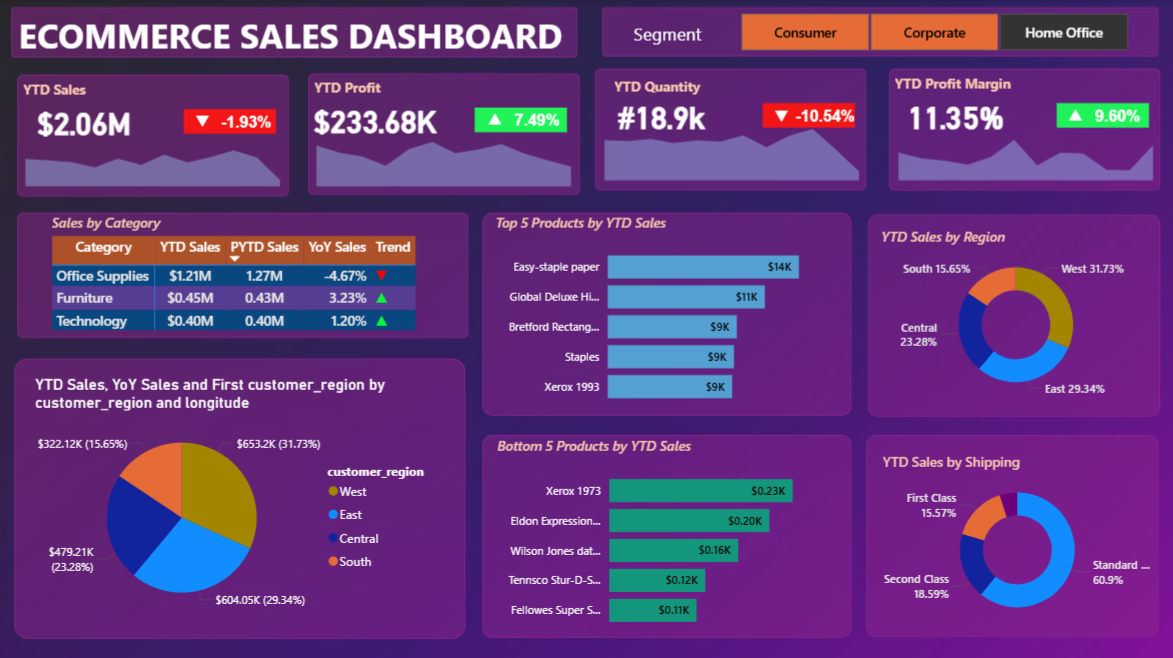

What the dashboard file says about the page in this screenshot:
{"tool":"powerbi","page":{"name":"Page 2","canvas":[1280,720],"ordinal":1},"visuals":[{"type":"shape","box":[17,7.6,614.2,54.8],"z":0},{"type":"textbox","box":[19.5,8.1,611.6,66.7],"z":1000},{"type":"shape","box":[22.4,81.5,294.8,132.3],"z":2000},{"type":"card","fields":{"Values":["ecommerce_data Power BI.YTD Sales"]},"box":[20.5,102.2,147.4,58.6],"z":3000},{"type":"areaChart","fields":{"Category":["Calendar.Month"],"Y":["Sum(ecommerce_data Power BI.sales_per_order)"]},"box":[16.7,132.5,306.1,75.6],"z":4000},{"type":"shape","box":[203.8,119.2,100.2,26.5],"z":5000},{"type":"card","fields":{"Values":["ecommerce_data Power BI.YoY Sales"]},"box":[224.6,115.5,92.6,35.9],"z":6000},{"type":"card","fields":{"Values":["ecommerce_data Power BI.Sales Icon"]},"box":[209.5,119.2,26.5,26.5],"z":7000},{"type":"textbox","box":[24.3,81.5,96.4,37.8],"z":8000},{"type":"shape","box":[338.2,79.9,294.8,132.3],"z":9000},{"type":"card","fields":{"Values":["ecommerce_data Power BI.YTD Profit"]},"box":[336.3,100.7,147.4,58.6],"z":10000},{"type":"areaChart","fields":{"Category":["Calendar.Month"],"Y":["Sum(ecommerce_data Power BI.profit_per_order)"]},"box":[332.5,130.9,306.1,75.6],"z":11000},{"type":"shape","box":[519.6,117.7,100.2,26.5],"z":12000},{"type":"card","fields":{"Values":["ecommerce_data Power BI.YoY Profit"]},"box":[540.4,113.9,92.6,35.9],"z":13000},{"type":"card","fields":{"Values":["ecommerce_data Power BI.Profit Icon"]},"box":[526.6,117.2,26.5,26.5],"z":14000},{"type":"textbox","box":[340.1,79.9,96.4,37.8],"z":15000},{"type":"shape","box":[649.3,74.8,294.8,132.3],"z":16000},{"type":"card","fields":{"Values":["ecommerce_data Power BI.YTD Conacatenated Qty"]},"box":[647.4,95.6,147.4,58.6],"z":17000},{"type":"areaChart","fields":{"Category":["Calendar.Month"],"Y":["Sum(ecommerce_data Power BI.order_quantity)"]},"box":[643.6,125.8,306.1,75.6],"z":18000},{"type":"shape","box":[830.7,112.6,100.2,26.5],"z":19000},{"type":"card","fields":{"Values":["ecommerce_data Power BI.YoY Quantity"]},"box":[851.5,108.8,92.6,35.9],"z":20000},{"type":"card","fields":{"Values":["ecommerce_data Power BI.Quantity Icon"]},"box":[837.2,113.4,26.5,26.5],"z":21000},{"type":"textbox","box":[665.3,78.1,120.4,34.2],"z":22000},{"type":"shape","box":[968,74.7,294.8,132.3],"z":23000},{"type":"card","fields":{"Values":["ecommerce_data Power BI.YTD Profit Margin"]},"box":[966.1,95.5,147.4,58.6],"z":24000},{"type":"areaChart","fields":{"Category":["Calendar.Month"],"Y":["ecommerce_data Power BI.Profit Margin"]},"box":[962.3,125.7,306.1,75.6],"z":25000},{"type":"shape","box":[1149.4,112.5,100.2,26.5],"z":26000},{"type":"card","fields":{"Values":["ecommerce_data Power BI.YoY Profit Margin"]},"box":[1170.2,108.7,92.6,35.9],"z":27000},{"type":"card","fields":{"Values":["ecommerce_data Power BI.Profit Margin Icon"]},"box":[1156.4,112,26.5,26.5],"z":28000},{"type":"textbox","box":[969.5,75.6,143.6,37.8],"z":29000},{"type":"shape","box":[22.7,230.6,489.5,136.1],"z":30000},{"type":"pivotTable","title":"Sales by Category","fields":{"Rows":["ecommerce_data Power BI.category_name"],"Values":["ecommerce_data Power BI.YTD Sales","ecommerce_data Power BI.PYTD Sales","ecommerce_data Power BI.YoY Sales","ecommerce_data Power BI.Trend"]},"box":[54.8,230.6,423.3,136.1],"z":31000},{"type":"shape","box":[18.9,389.3,489.5,304.3],"z":32000},{"type":"pieChart","fields":{"Category":["us_state_long_lat_codes.latitude","ecommerce_data Power BI.customer_region"],"Series":["us_state_long_lat_codes.longitude"],"Y":["ecommerce_data Power BI.YTD Sales"]},"box":[37.8,406.3,447.9,270.2],"z":32001},{"type":"shape","box":[527.2,230.6,400.6,220],"z":32002},{"type":"shape","box":[527.2,472.4,400.6,220],"z":32003},{"type":"barChart","title":"Top 5 Products by YTD Sales","fields":{"Category":["ecommerce_data Power BI.product_name"],"Y":["ecommerce_data Power BI.YTD Sales"]},"box":[536.8,231,377.4,219.6],"z":32004},{"type":"barChart","title":"Bottom 5 Products by YTD Sales","fields":{"Category":["ecommerce_data Power BI.product_name"],"Y":["ecommerce_data Power BI.YTD Sales"]},"box":[538.4,473.3,377.4,219.6],"z":32005},{"type":"shape","box":[945,232.6,317.2,219.6],"z":32006},{"type":"shape","box":[943.4,471.7,317.2,219.6],"z":32007},{"type":"donutChart","title":"YTD Sales by Region","fields":{"Category":["ecommerce_data Power BI.customer_region"],"Y":["ecommerce_data Power BI.YTD Sales"]},"box":[954.8,240.7,300.9,198.4],"z":32008},{"type":"donutChart","title":"YTD Sales by Shipping","fields":{"Y":["ecommerce_data Power BI.YTD Sales"],"Category":["ecommerce_data Power BI.shipping_type"]},"box":[956.4,484.7,300.9,198.4],"z":32009},{"type":"shape","box":[657.1,8.1,603.4,53.7],"z":32010},{"type":"slicer","fields":{"Values":["ecommerce_data Power BI.customer_segment"]},"box":[782.4,8.1,468.4,53.7],"z":32011},{"type":"textbox","box":[686.4,19.5,110.6,42.3],"z":32012}]}

Visuals, with their boxes in screenshot pixels (x1, y1, x2, y2), scaled from the page's 1280x720 canvas onto the 1173x658 screenshot:
shape: [16,7,578,57]
textbox: [18,7,578,68]
shape: [21,74,291,195]
card - ecommerce_data Power BI.YTD Sales: [19,93,154,147]
areaChart - Calendar.Month x Sum(ecommerce_data Power BI.sales_per_order): [15,121,296,190]
shape: [187,109,279,133]
card - ecommerce_data Power BI.YoY Sales: [206,106,291,138]
card - ecommerce_data Power BI.Sales Icon: [192,109,216,133]
textbox: [22,74,111,109]
shape: [310,73,580,194]
card - ecommerce_data Power BI.YTD Profit: [308,92,443,146]
areaChart - Calendar.Month x Sum(ecommerce_data Power BI.profit_per_order): [305,120,585,189]
shape: [476,108,568,132]
card - ecommerce_data Power BI.YoY Profit: [495,104,580,137]
card - ecommerce_data Power BI.Profit Icon: [483,107,507,131]
textbox: [312,73,400,108]
shape: [595,68,865,189]
card - ecommerce_data Power BI.YTD Conacatenated Qty: [593,87,728,141]
areaChart - Calendar.Month x Sum(ecommerce_data Power BI.order_quantity): [590,115,870,184]
shape: [761,103,853,127]
card - ecommerce_data Power BI.YoY Quantity: [780,99,865,132]
card - ecommerce_data Power BI.Quantity Icon: [767,104,792,128]
textbox: [610,71,720,103]
shape: [887,68,1157,189]
card - ecommerce_data Power BI.YTD Profit Margin: [885,87,1020,141]
areaChart - Calendar.Month x ecommerce_data Power BI.Profit Margin: [882,115,1162,184]
shape: [1053,103,1145,127]
card - ecommerce_data Power BI.YoY Profit Margin: [1072,99,1157,132]
card - ecommerce_data Power BI.Profit Margin Icon: [1060,102,1084,127]
textbox: [888,69,1020,104]
shape: [21,211,469,335]
"Sales by Category" pivotTable: [50,211,438,335]
shape: [17,356,466,634]
pieChart - us_state_long_lat_codes.latitude x ecommerce_data Power BI.customer_region: [35,371,445,618]
shape: [483,211,850,412]
shape: [483,432,850,633]
"Top 5 Products by YTD Sales" barChart: [492,211,838,412]
"Bottom 5 Products by YTD Sales" barChart: [493,433,839,633]
shape: [866,213,1157,413]
shape: [865,431,1155,632]
"YTD Sales by Region" donutChart: [875,220,1151,401]
"YTD Sales by Shipping" donutChart: [876,443,1152,624]
shape: [602,7,1155,56]
slicer - ecommerce_data Power BI.customer_segment: [717,7,1146,56]
textbox: [629,18,730,56]
